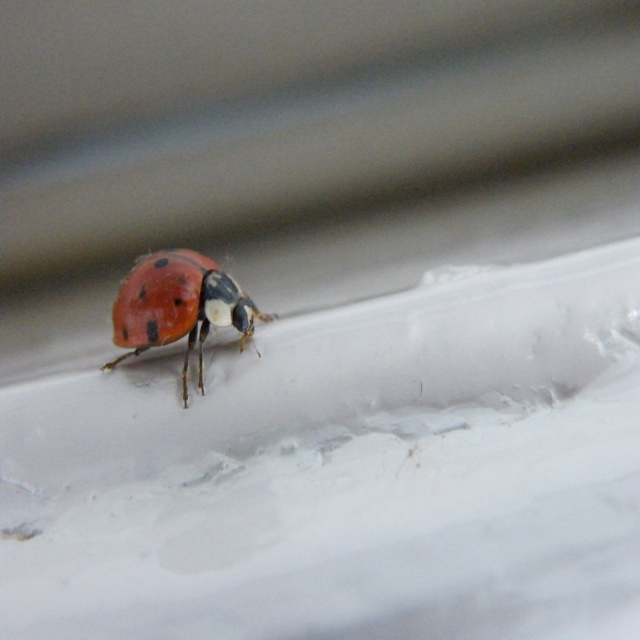Ladybug: (100, 245, 276, 408)
